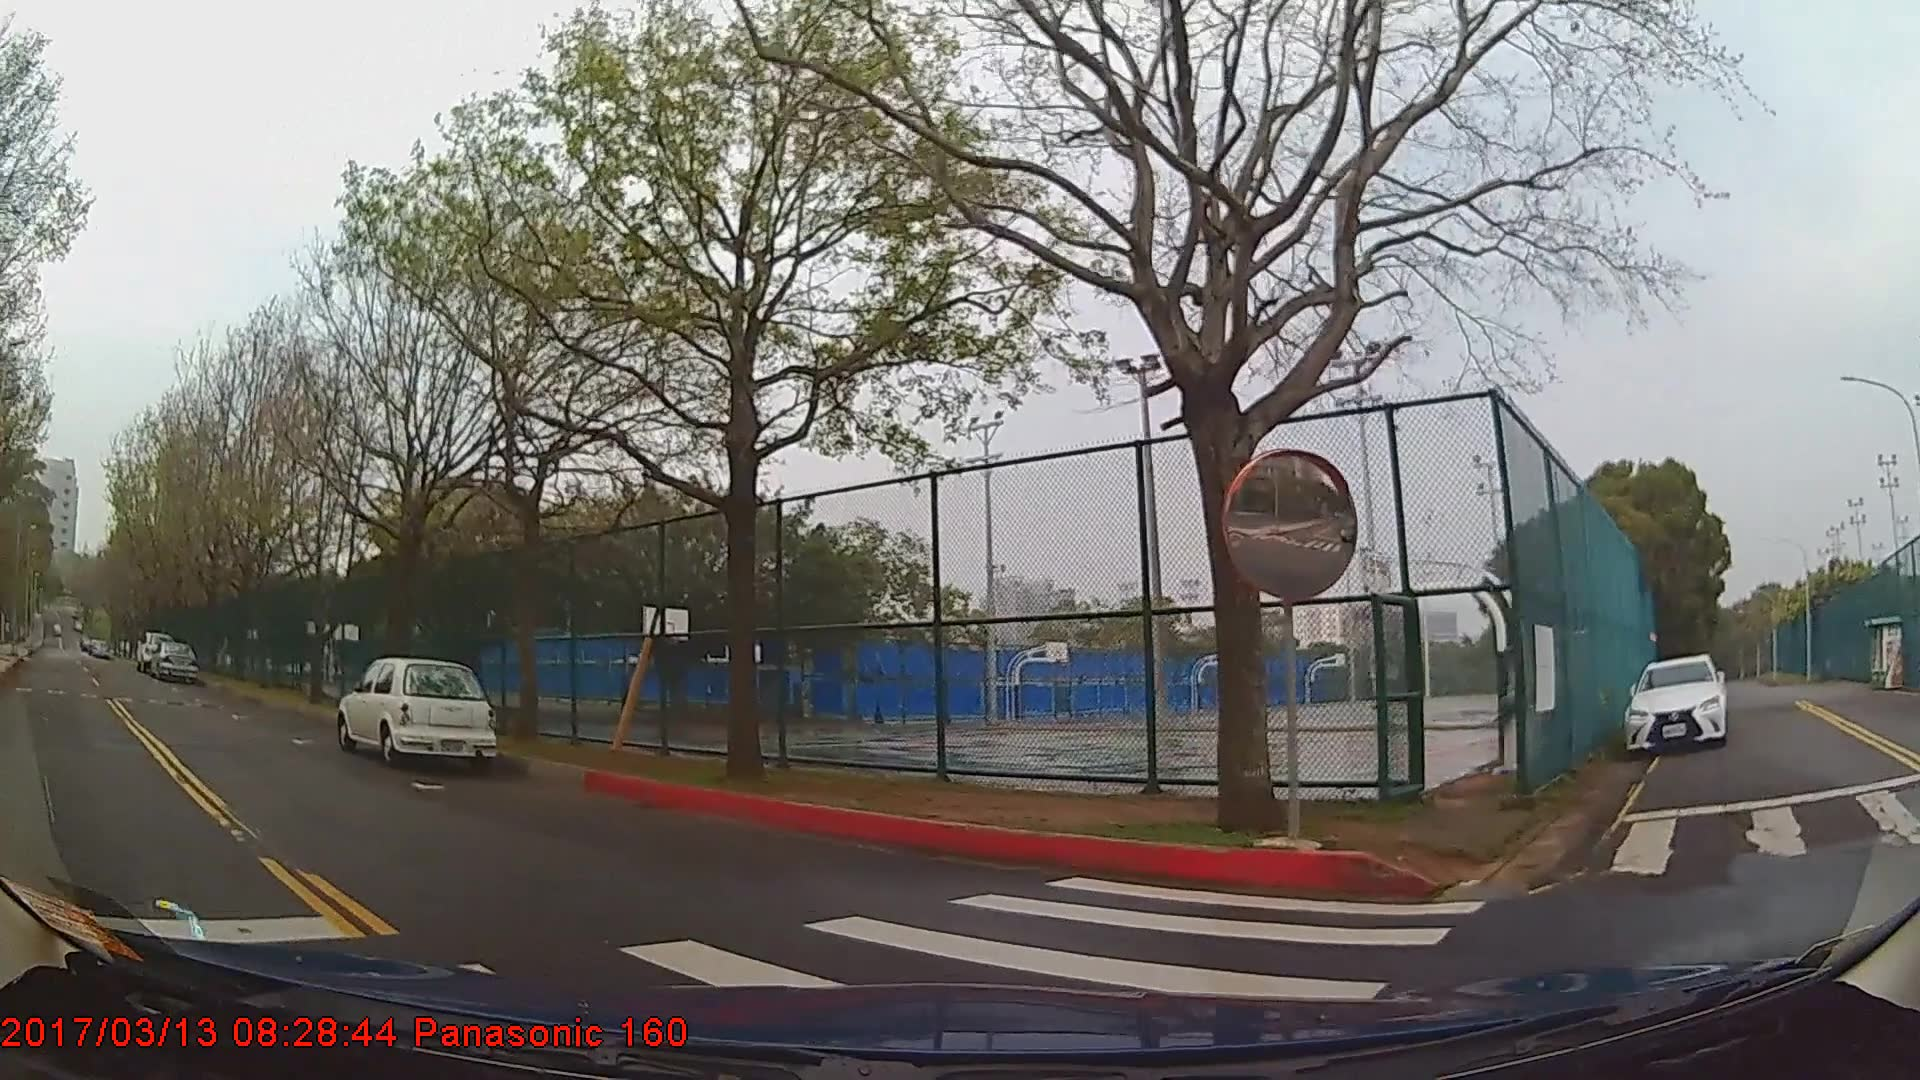vehicle: (336, 655, 496, 762), (1622, 654, 1727, 753), (148, 636, 198, 679)
